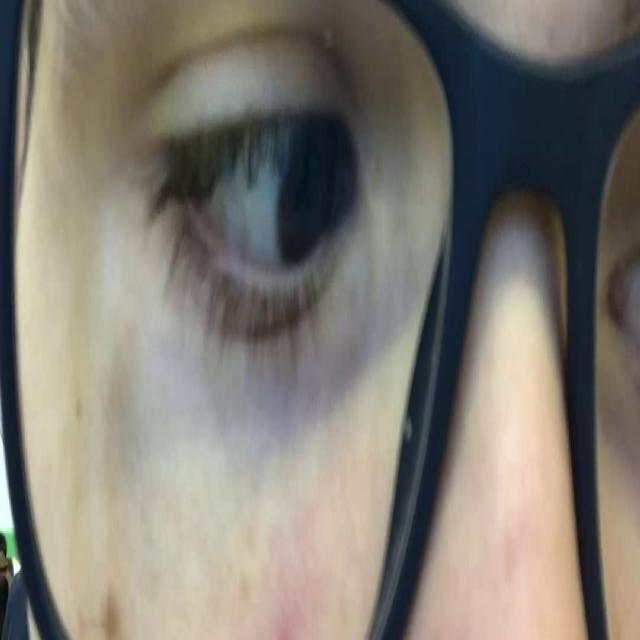eye: (132, 42, 388, 374)
gaze: (272, 130, 342, 275)
